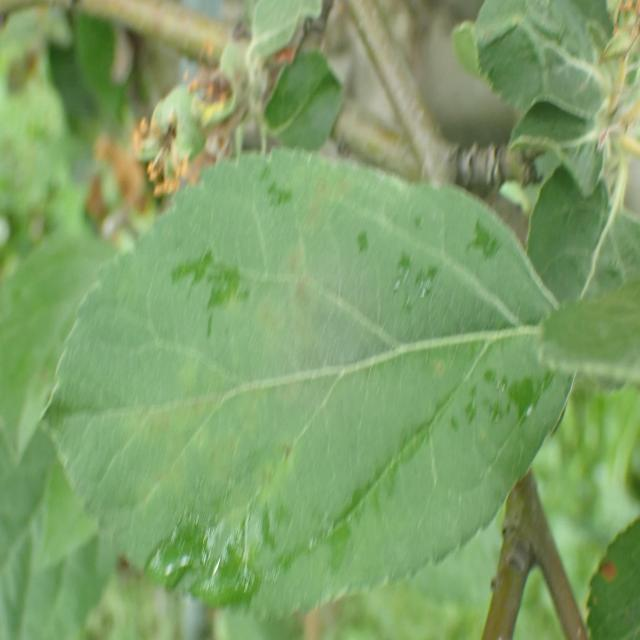scab: (67, 157, 438, 542)
